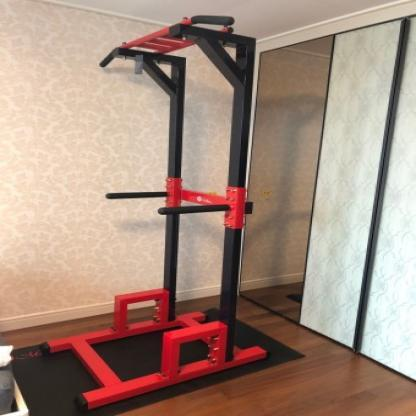chinning dipping: (38, 15, 268, 412)
